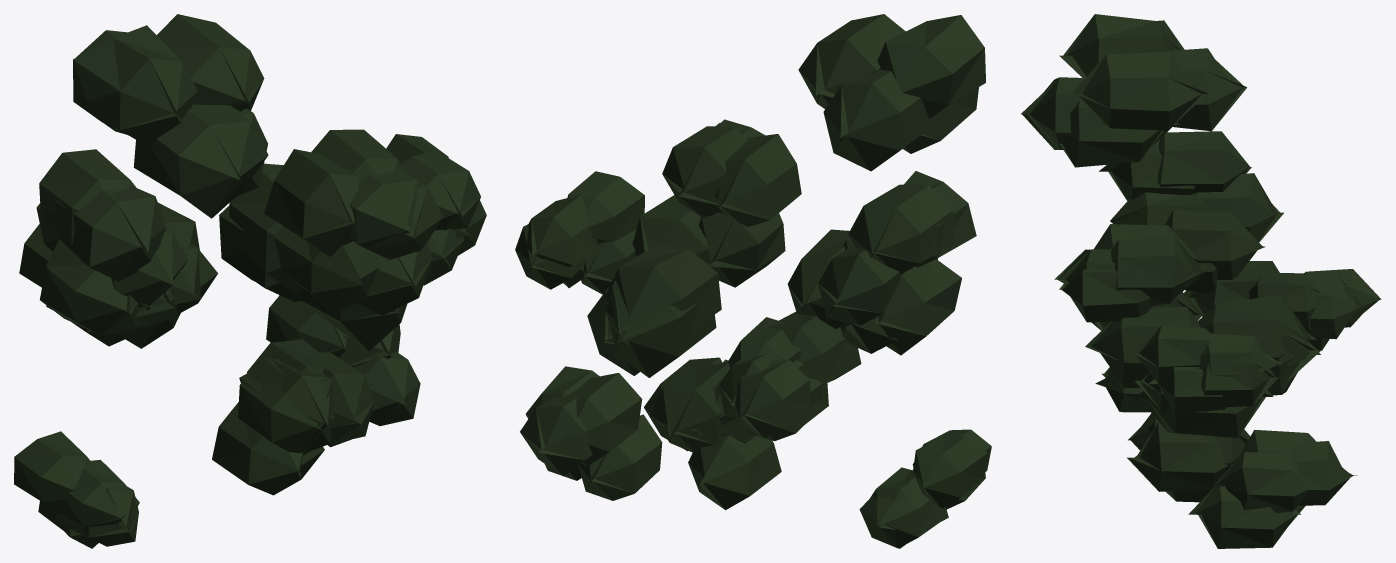
File: tree_m18_far.obj
3 views of the same model, side by side, from view 1: azimuth 30°, elevation 25°; view 2: azimuth 150°, elevation 25°; view 3: azimuth 270°, elevation 25° (orthographic). The views are drawn at different scales.
Bounding box in the file's own units: 1.29 × 1.4 × 1.09.
Materials: 1 (1 with a texture image).
